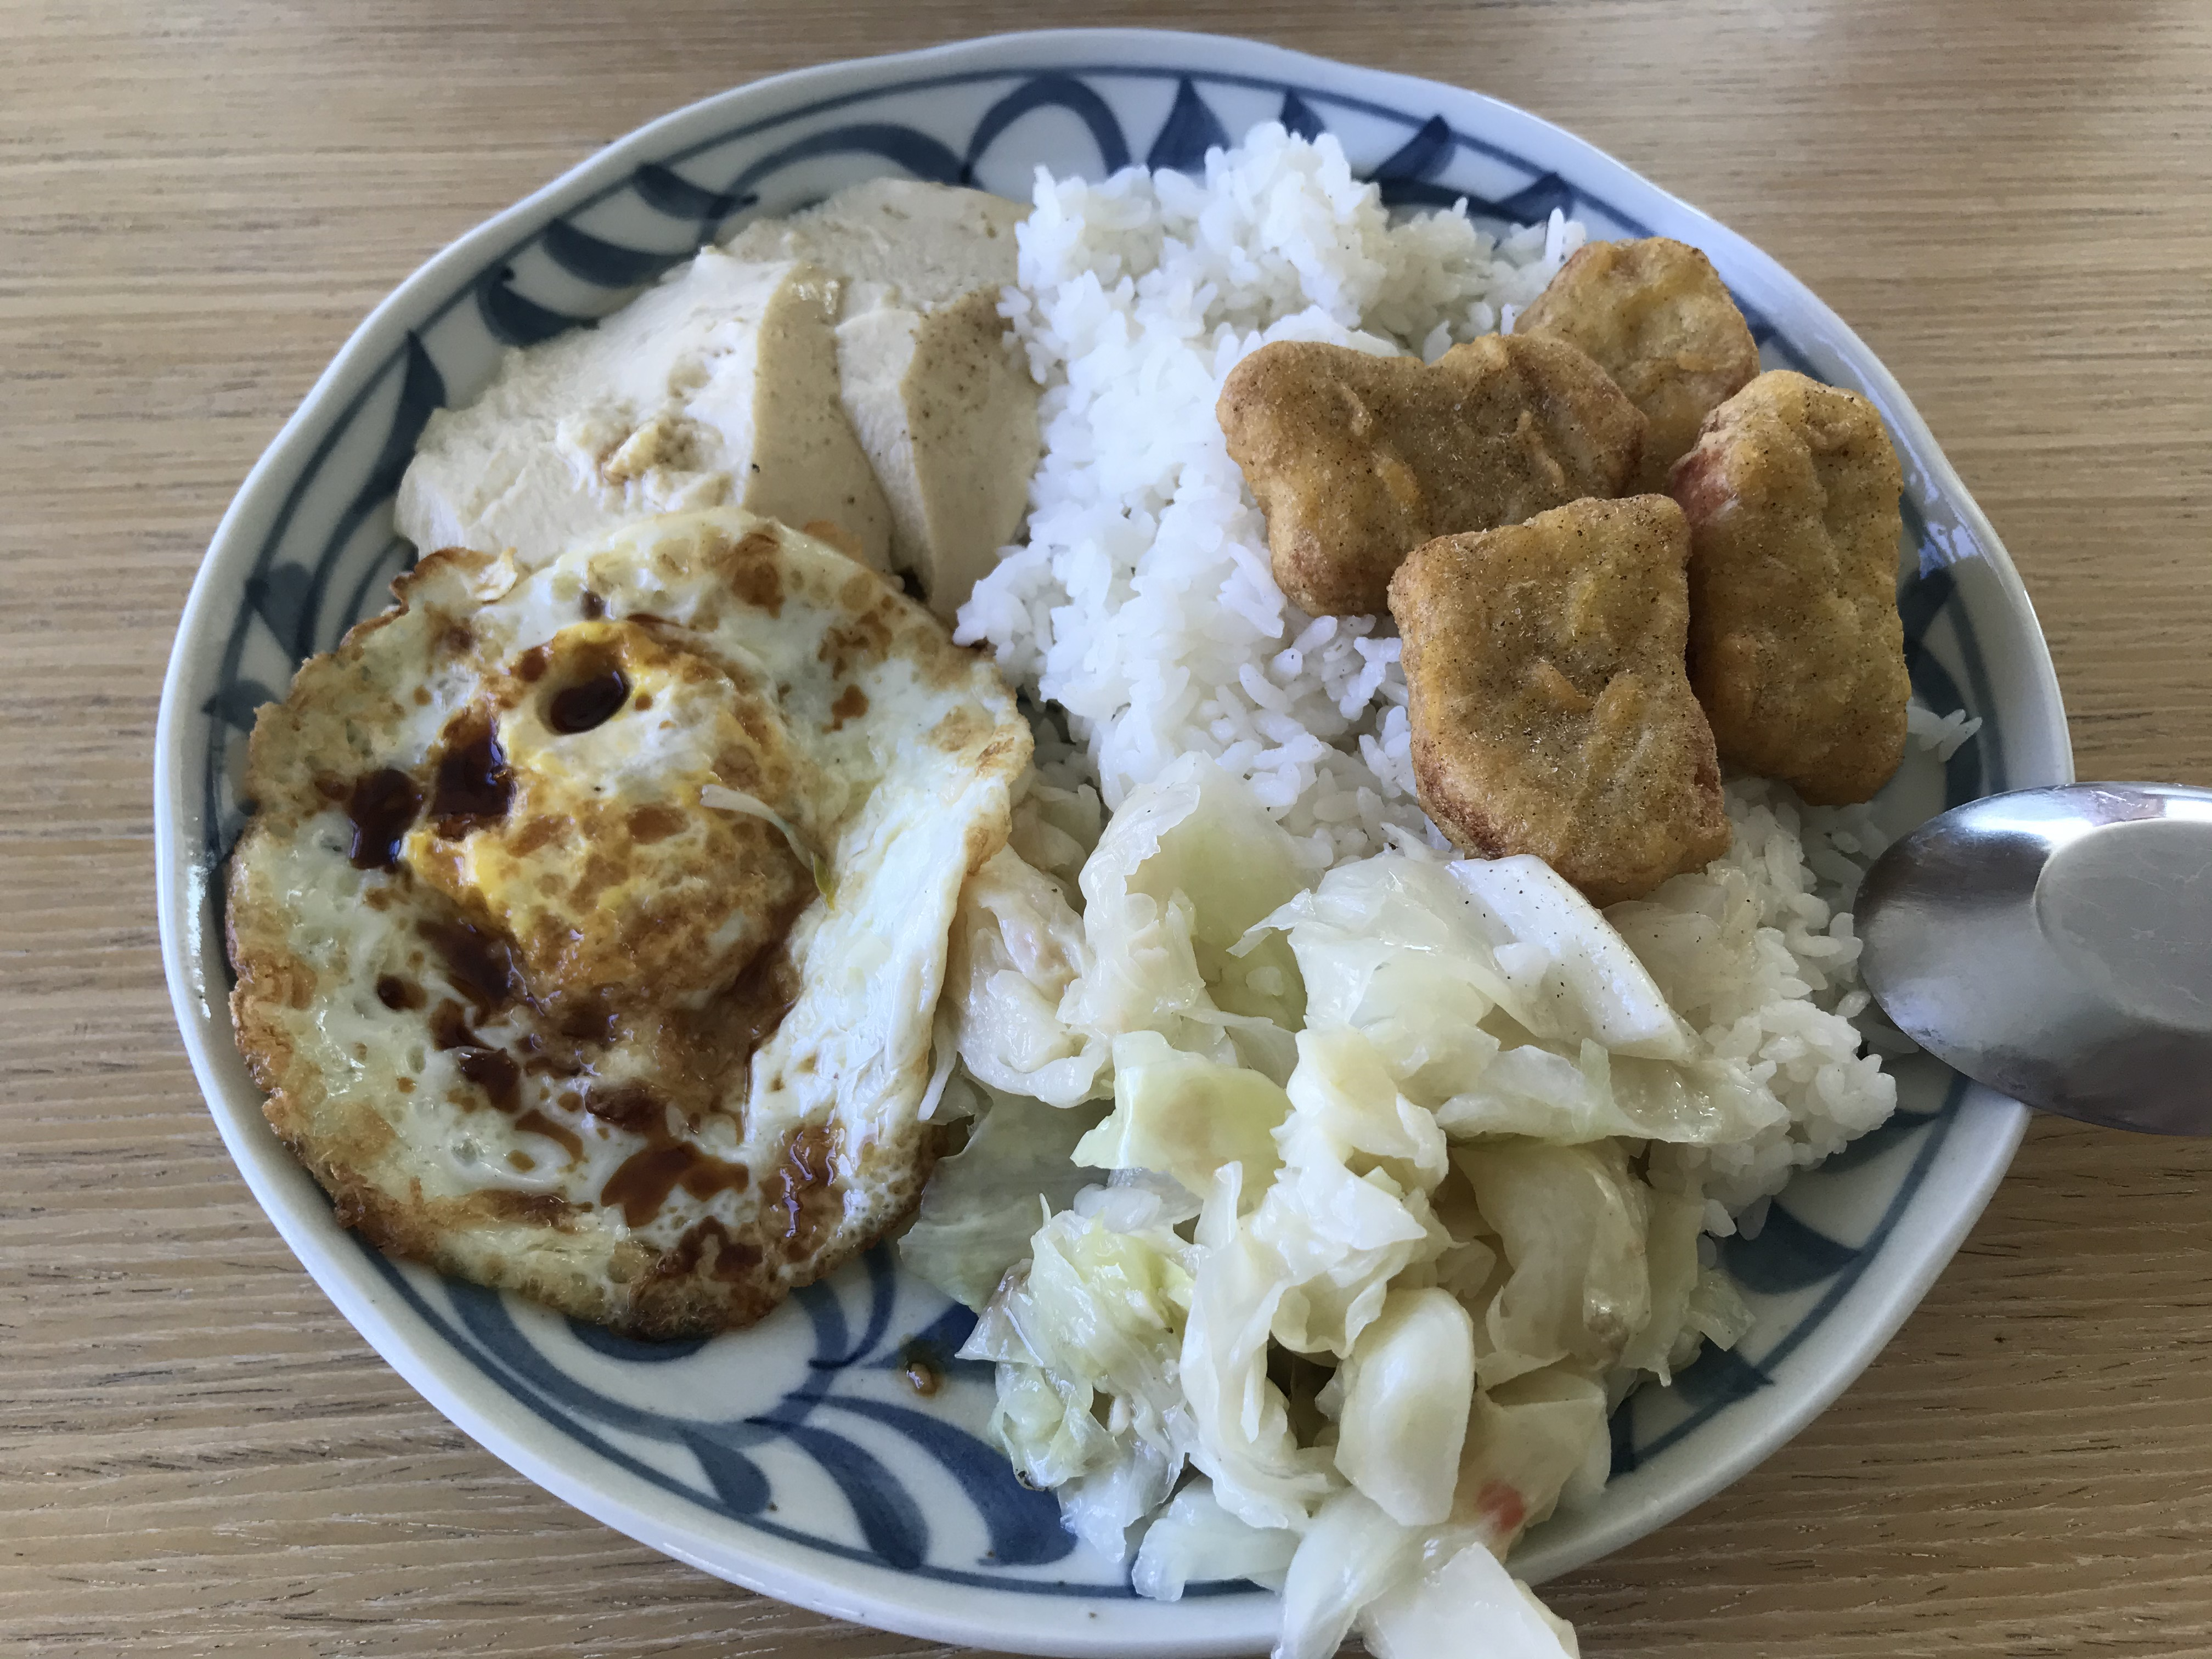chicken_nuggets: (1219, 235, 1911, 896)
chinese_cabbage: (1000, 864, 1717, 1502)
fried_eggs: (225, 512, 1038, 1338)
rice: (1014, 132, 1388, 819)
